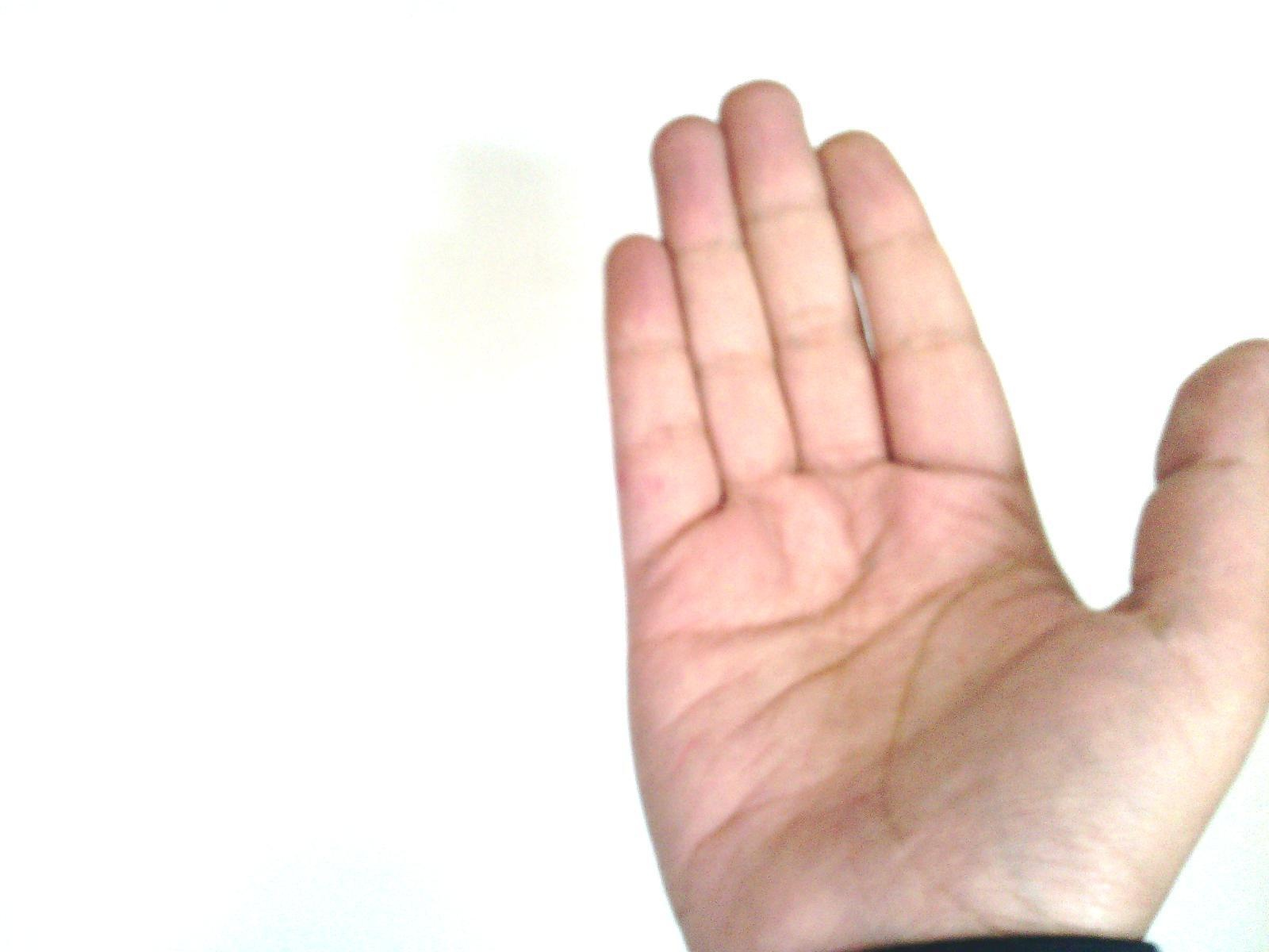open_palm: (597, 79, 1267, 950)
